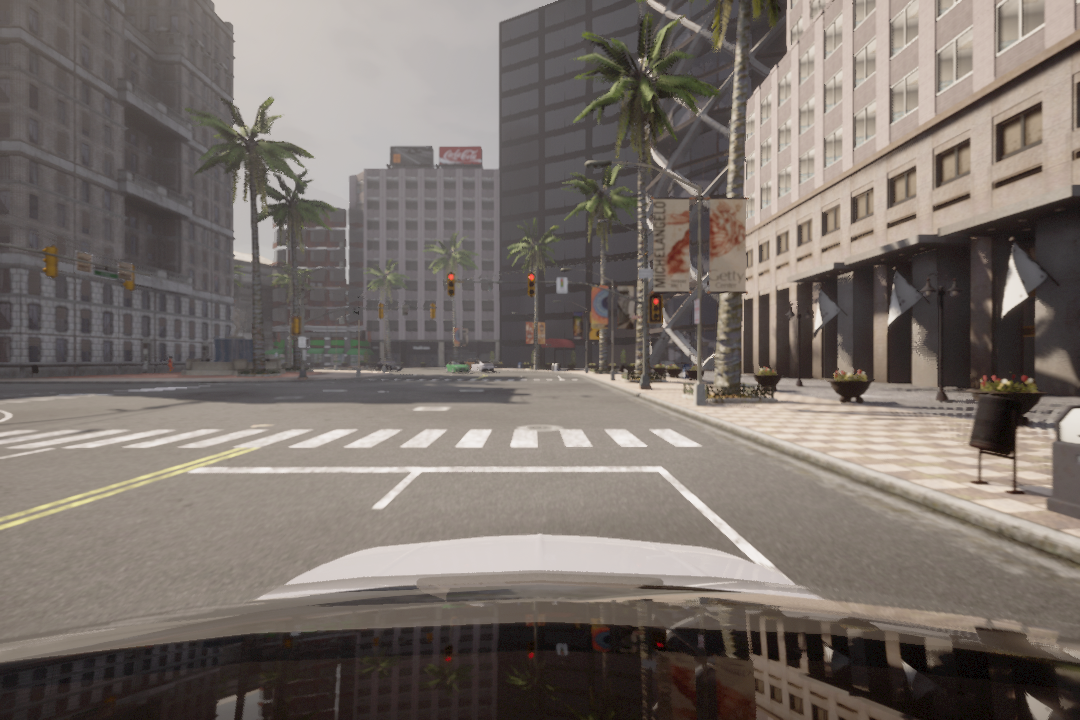TrafficLight: (650, 294, 664, 327), (524, 273, 538, 300), (446, 271, 457, 297)
walkside: (1, 426, 719, 457)
